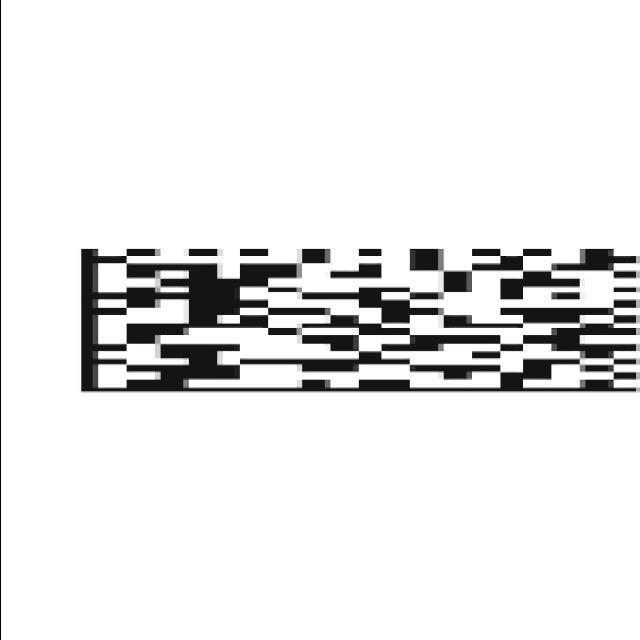Data-Matrix: (63, 236, 635, 404)
